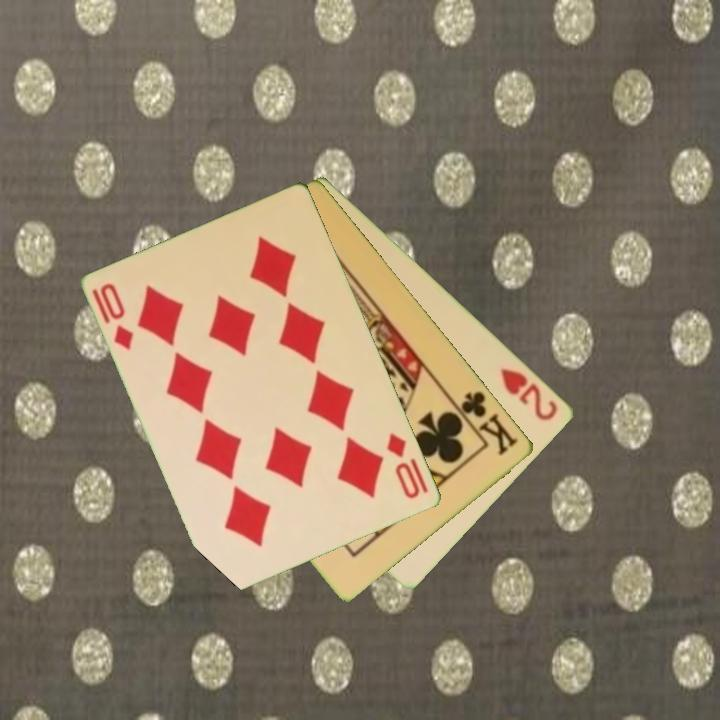10d: (383, 429, 432, 502), (89, 279, 137, 353)
2h: (497, 364, 561, 424)
Kc: (450, 387, 522, 459)
